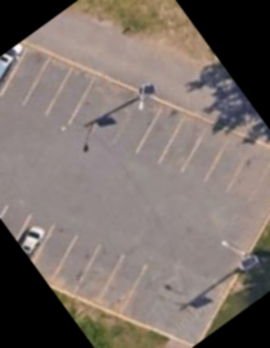parkingspot: (0, 39, 270, 218), (0, 193, 153, 321)
